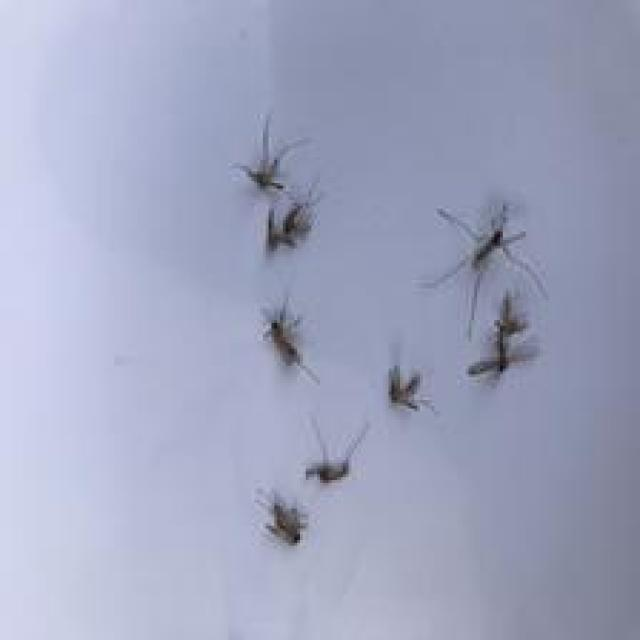Culex: (417, 198, 549, 338)
